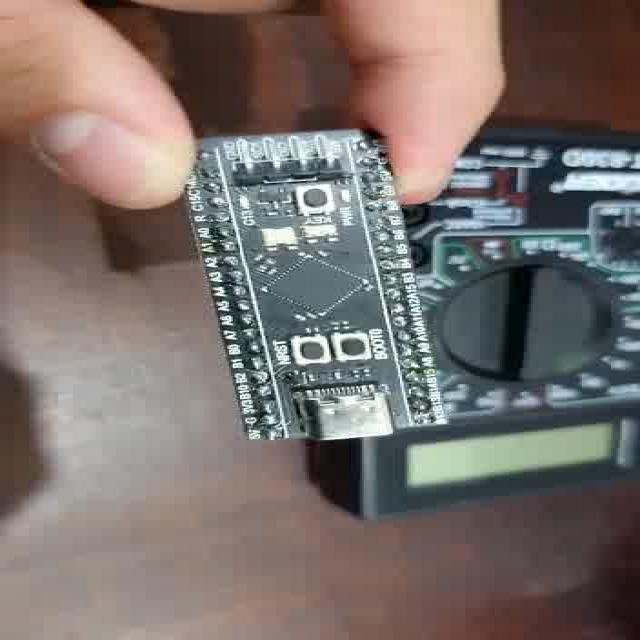multimeter: (375, 128, 640, 508)
stm32: (198, 130, 455, 440)
